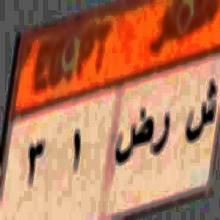1: (68, 125, 85, 175)
3: (23, 135, 47, 191)
daad: (115, 105, 152, 165)
raa: (153, 112, 175, 162)
sheen: (185, 76, 217, 150)
